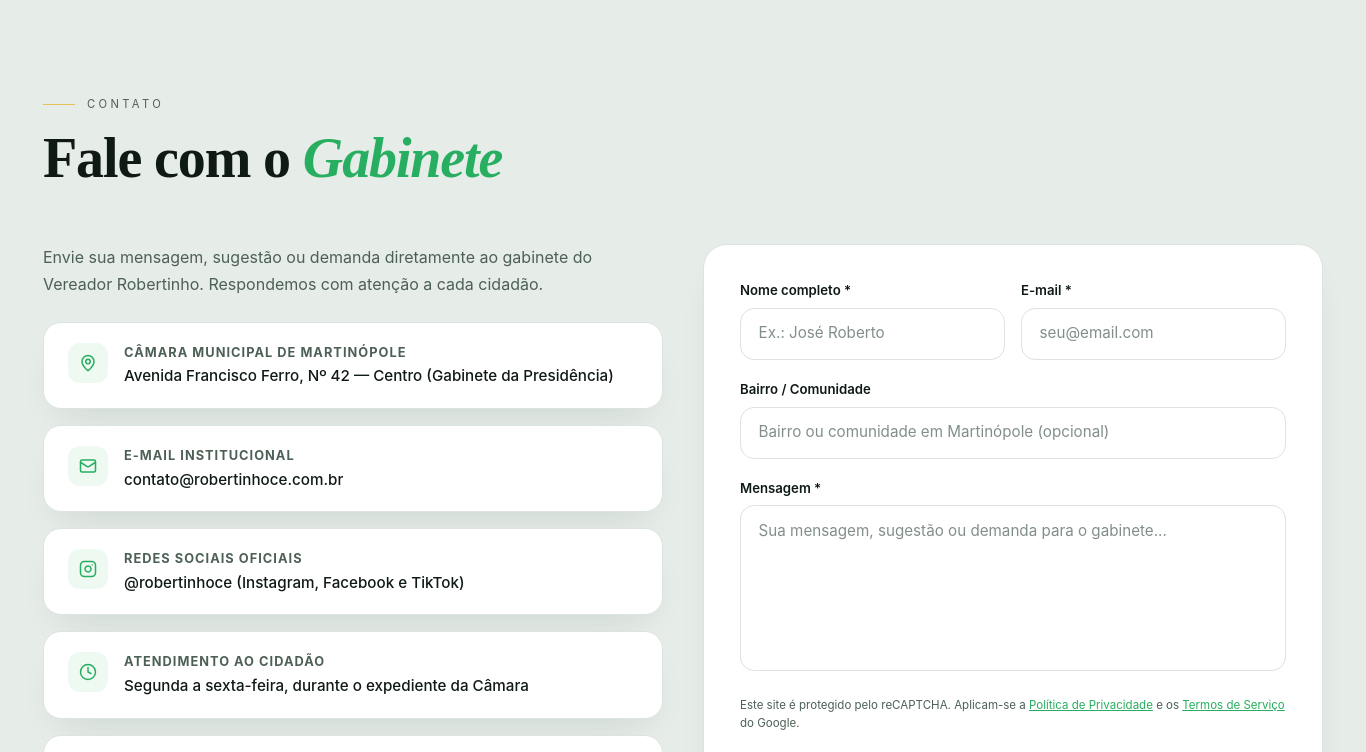
Test: Formulário de Contato (Formspark + reCAPTCHA v3) › exibe erro quando Formspark retorna status não-OK
Type "José Roberto" into the field labelled "Nome completo *" at (872, 334), box [740,308,1005,360]
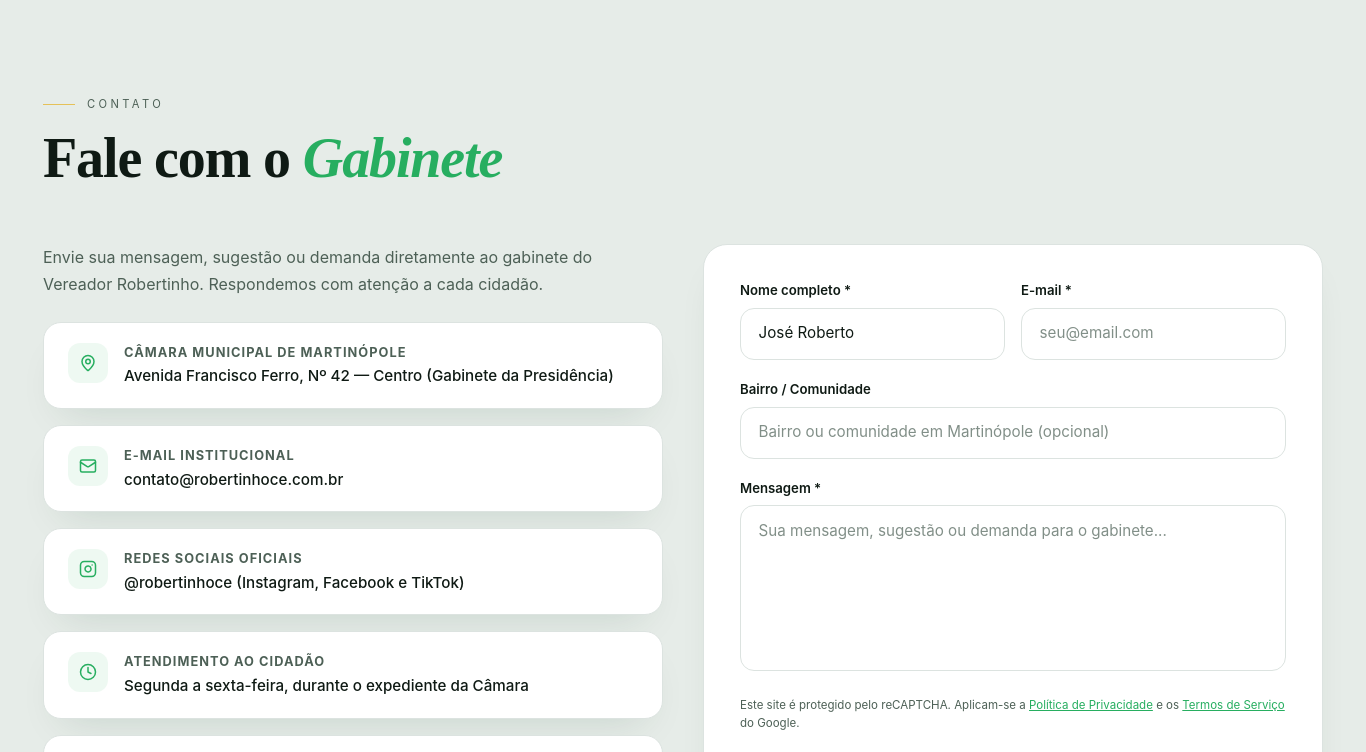
Type "jose@teste.com" into the field labelled "E-mail *" at (1154, 334), box [1021,308,1286,360]
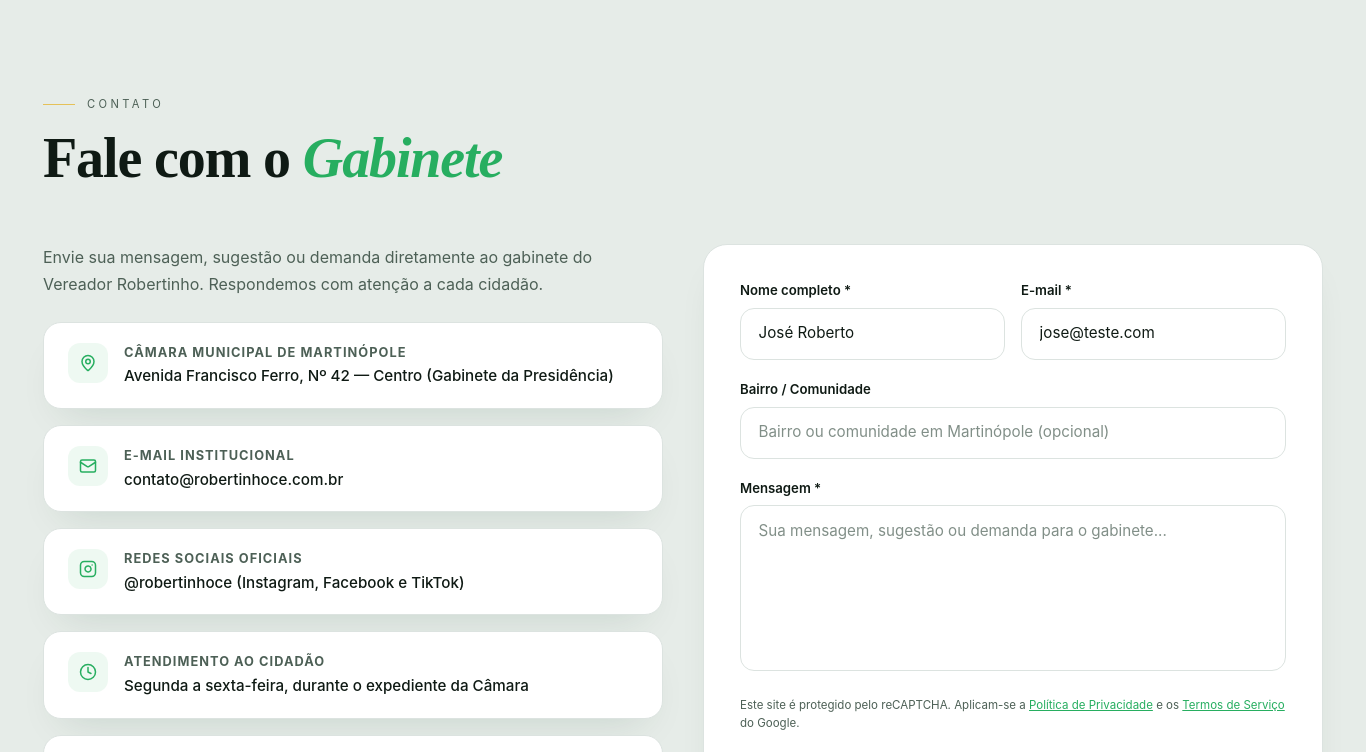
Type "Mensagem de teste" into the text box labelled "Mensagem *" at (1013, 588), box [740,506,1286,671]
(page scrolled)
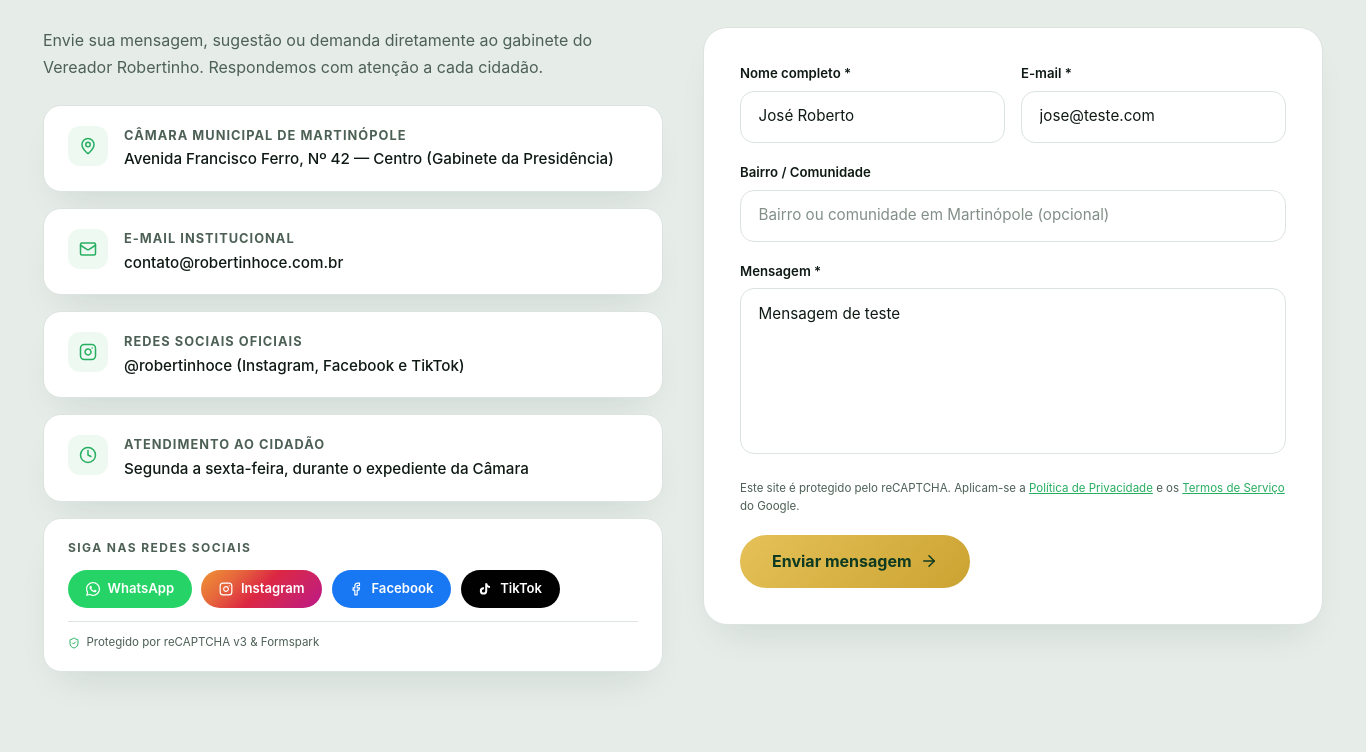
Click the button "Enviar mensagem" at (855, 561), box [740,535,970,588]
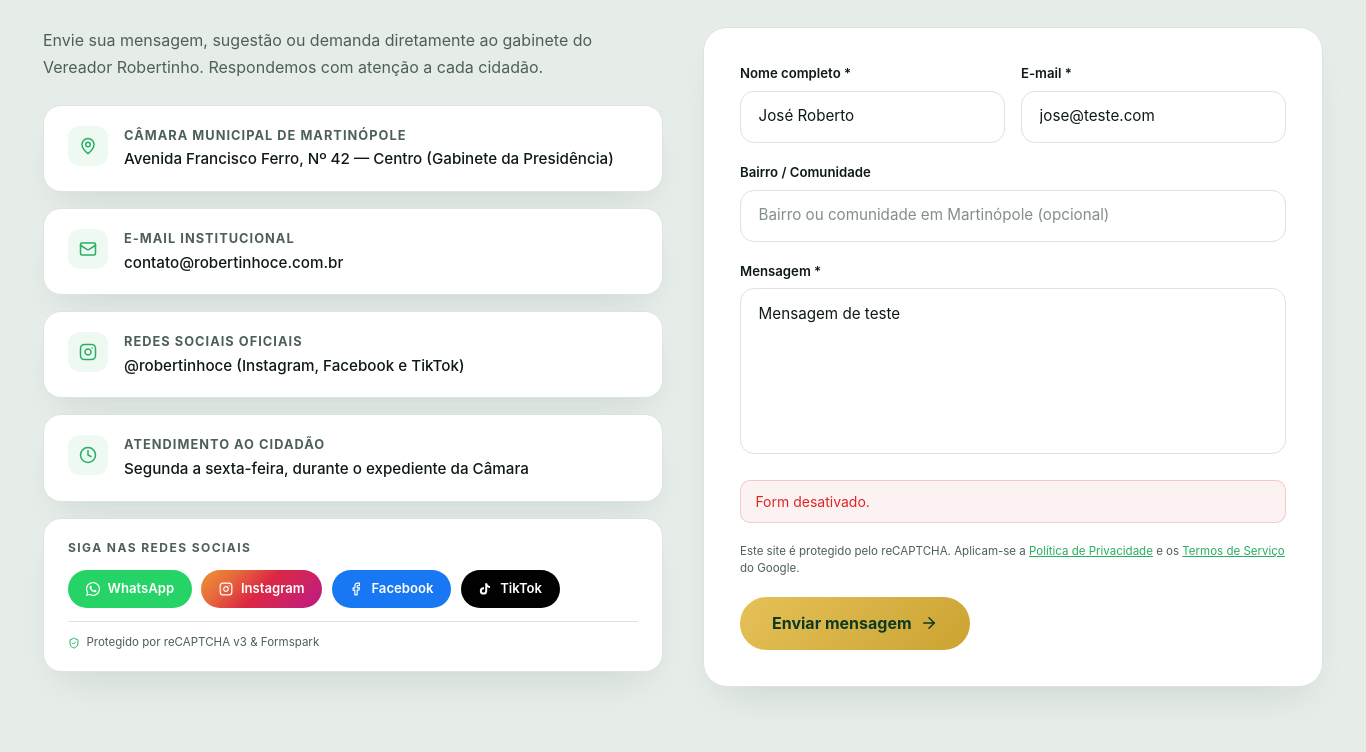
Expected: the text "Form desativado." is shown, [740,480,1286,523]
